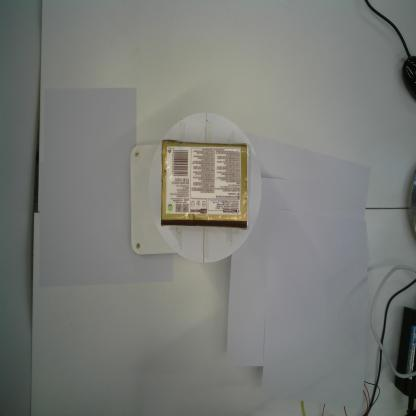Tissue: (160, 138, 250, 230)
